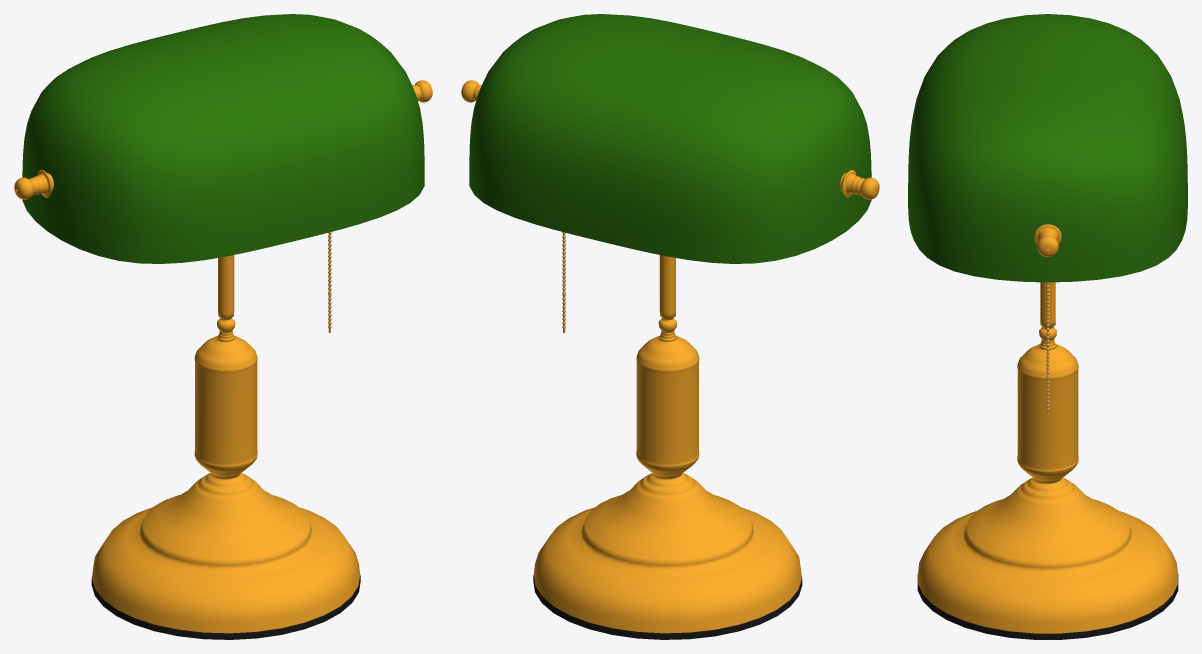
File: Green_Glass_Study_Lamp_Standalone_Opt.glb
3 views of the same model, side by side, from view 1: azimuth 30°, elevation 25°; view 2: azimuth 150°, elevation 25°; view 3: azimuth 270°, elevation 25° (orthographic). The views are drawn at different scales.
Parts seen in each view (by area): view 1: Plane; view 2: Plane; view 3: Plane.
Part boxes in pixels (x1,y1,x2,y2): Plane: (14, 14, 432, 639); Plane: (461, 14, 879, 639); Plane: (908, 14, 1187, 639).
Size of the model in its own units: 0.3289 by 0.4061 by 0.1983.
